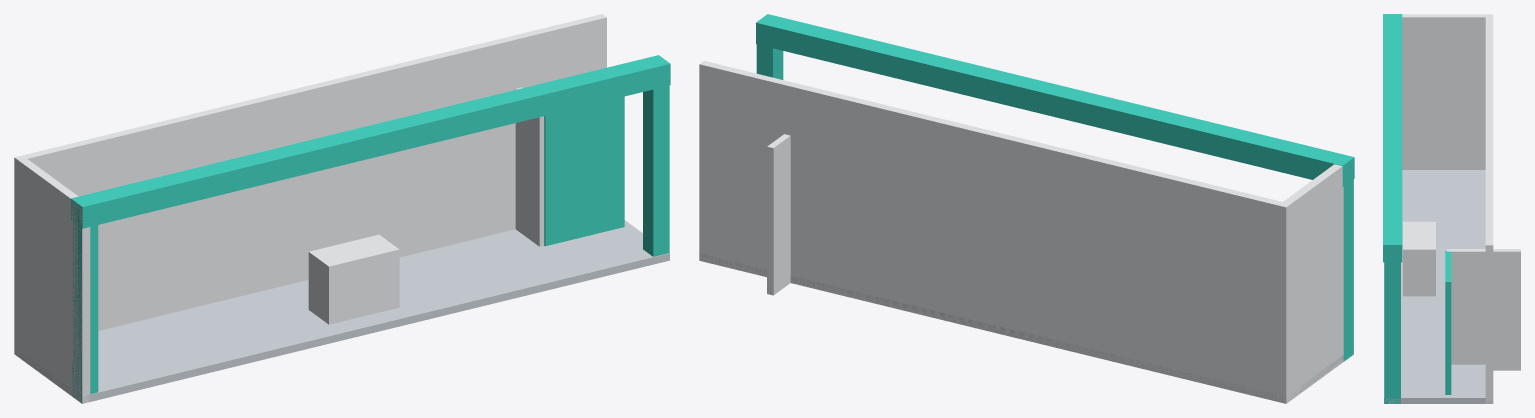
3 views of the same model, side by side, from view 1: azimuth 30°, elevation 25°; view 2: azimuth 150°, elevation 25°; view 3: azimuth 270°, elevation 25° (orthographic). The views are drawn at different scales.
Parts seen in each view (by area): view 1: Exhibition Booth Concept; view 2: Exhibition Booth Concept; view 3: Exhibition Booth Concept.
Part boxes in pixels (x1=…): Exhibition Booth Concept: x1=14, y1=14, x2=670, y2=403; Exhibition Booth Concept: x1=699, y1=14, x2=1354, y2=403; Exhibition Booth Concept: x1=1383, y1=14, x2=1520, y2=403.
Size of the model in its own units: 10 by 3.2 by 2.52.
